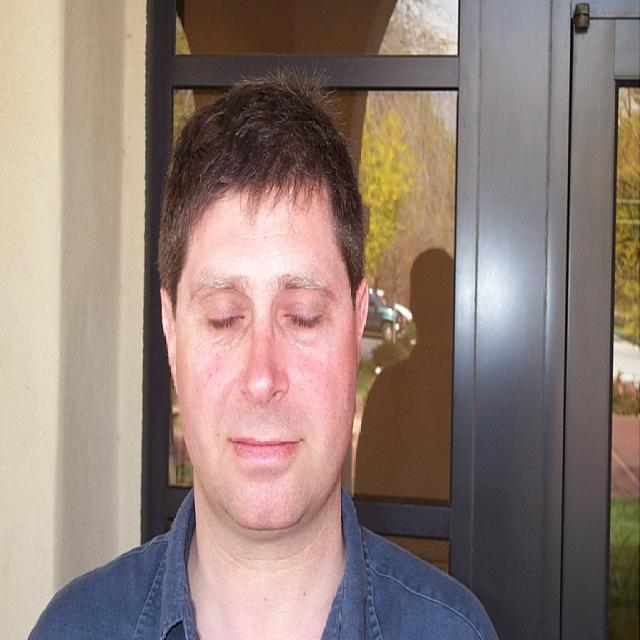Eyeclosed: (280, 297, 324, 340), (208, 298, 243, 342)
